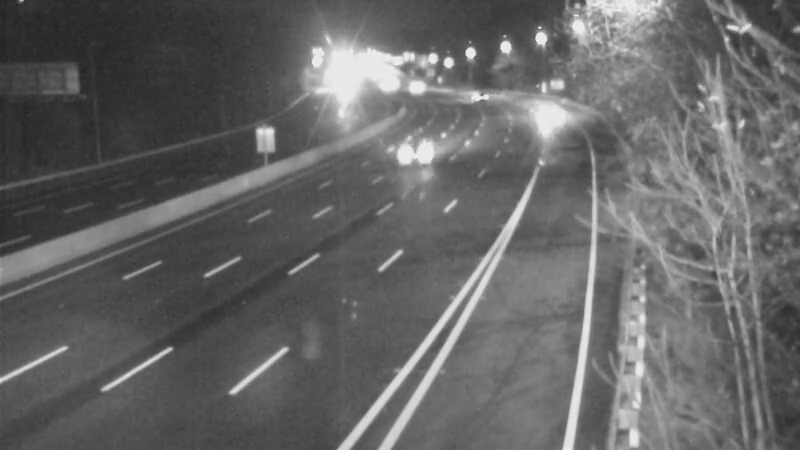vehicle: (388, 62, 438, 112), (452, 73, 502, 123), (524, 89, 574, 139), (385, 123, 435, 173)
